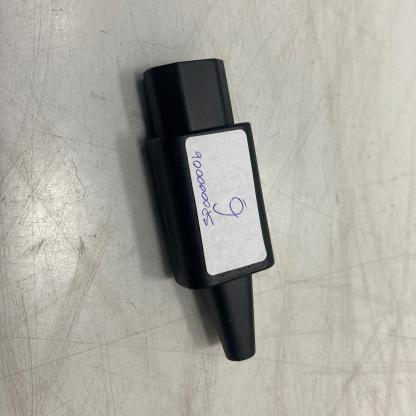SP0000006: (114, 26, 308, 390)
